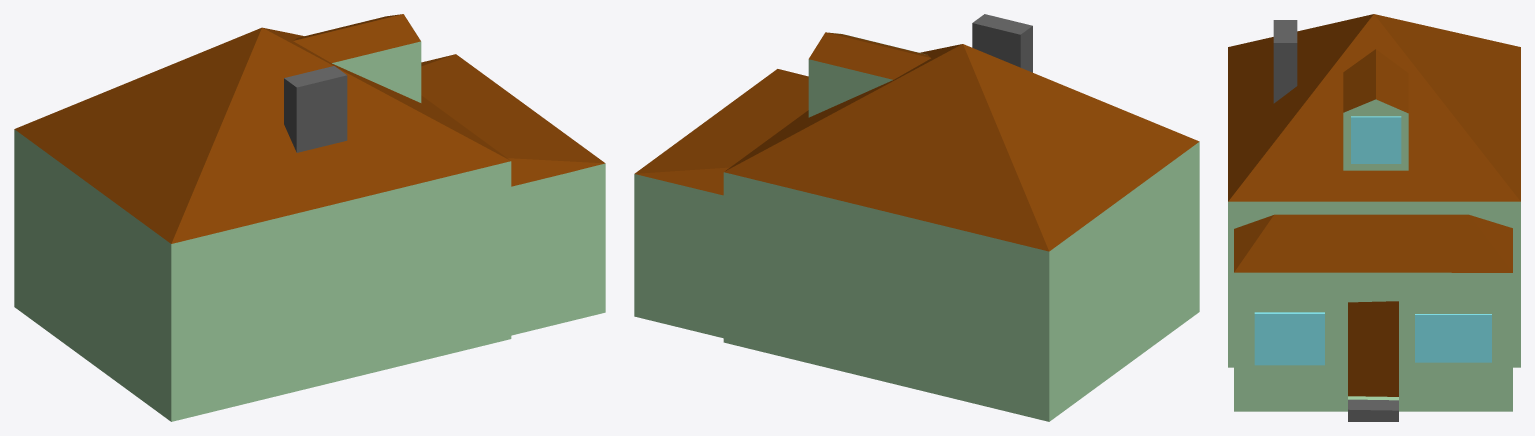
Rendered from SimpleHouse1.fbx.
The picture shows the model from 3 angles, left to right: view 1: azimuth 30°, elevation 25°; view 2: azimuth 150°, elevation 25°; view 3: azimuth 270°, elevation 25°; orthographic projection. The views are drawn at different scales.
Visible parts, largest first — view 1: Cube; view 2: Cube; view 3: Cube.
Boxes of the visible parts, x1,y1,x2,y2 form: Cube: (14,14,605,421); Cube: (634,14,1199,421); Cube: (1228,14,1520,421).
Bounding box in the file's own units: 2707 × 1663 × 1600.
